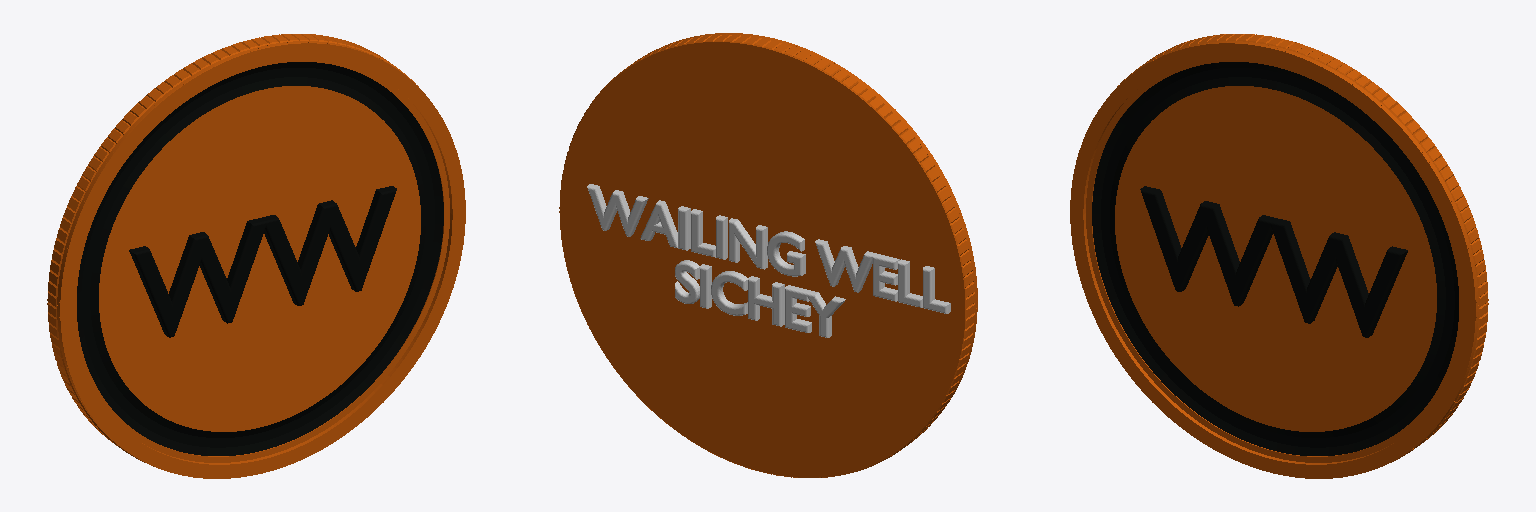
File: coin.obj
3 views of the same model, side by side, from view 1: azimuth 30°, elevation 25°; view 2: azimuth 150°, elevation 25°; view 3: azimuth 330°, elevation 25° (orthographic).
Parts seen in each view (by area): view 1: Cylinder, Text; view 2: Cylinder, Text.001; view 3: Cylinder, Text.
Boxes of the visible parts, x1=… form: Cylinder: x1=47, y1=34, x2=465, y2=478; Text: x1=129, y1=186, x2=396, y2=337; Cylinder: x1=559, y1=33, x2=977, y2=477; Text.001: x1=587, y1=184, x2=950, y2=337; Cylinder: x1=1070, y1=34, x2=1488, y2=478; Text: x1=1140, y1=186, x2=1407, y2=337.
Bounding box in the file's own units: 2.01 × 2.01 × 0.1621.